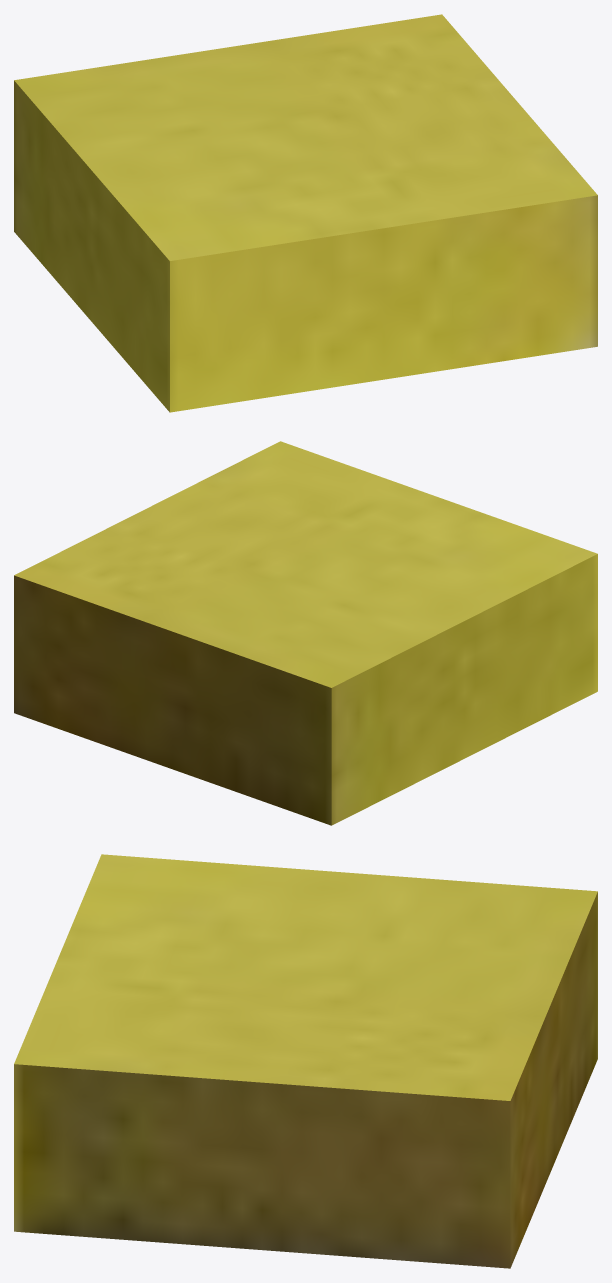
The model's file is post_it.glb.
3 renders of one model, top to bottom at view 1: azimuth 30°, elevation 25°; view 2: azimuth 150°, elevation 25°; view 3: azimuth 270°, elevation 25°, orthographic. The views are drawn at different scales.
Parts seen in each view (by area): view 1: post_it; view 2: post_it; view 3: post_it.
Boxes of the visible parts, bbox=[...] form: post_it: bbox=[14, 14, 597, 412]; post_it: bbox=[14, 441, 597, 825]; post_it: bbox=[14, 854, 597, 1268].
Size of the model in its own units: 0.8897 by 0.2816 by 0.8897.
1 material, 1 textured.
